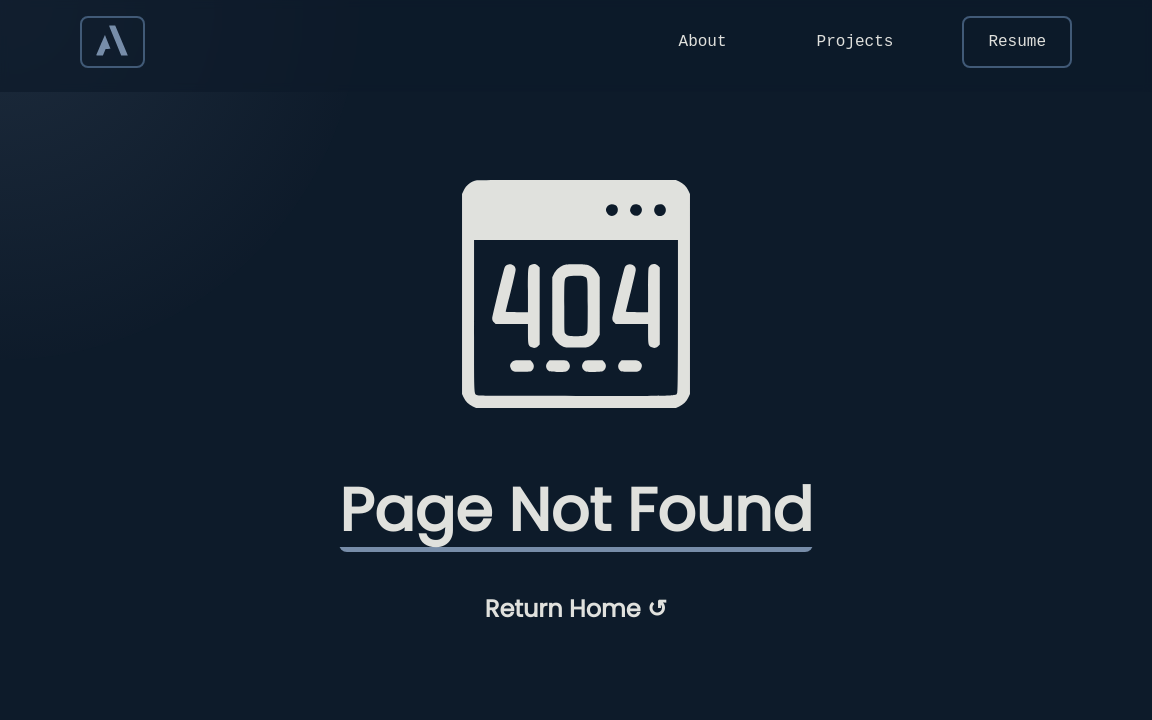
Test: Check that not found page is working as intended › check if button returns to home
This screenshot has width=1152, height=720.
Click the link with id "returnhomebutton": click(576, 609) [485,592,667,625]
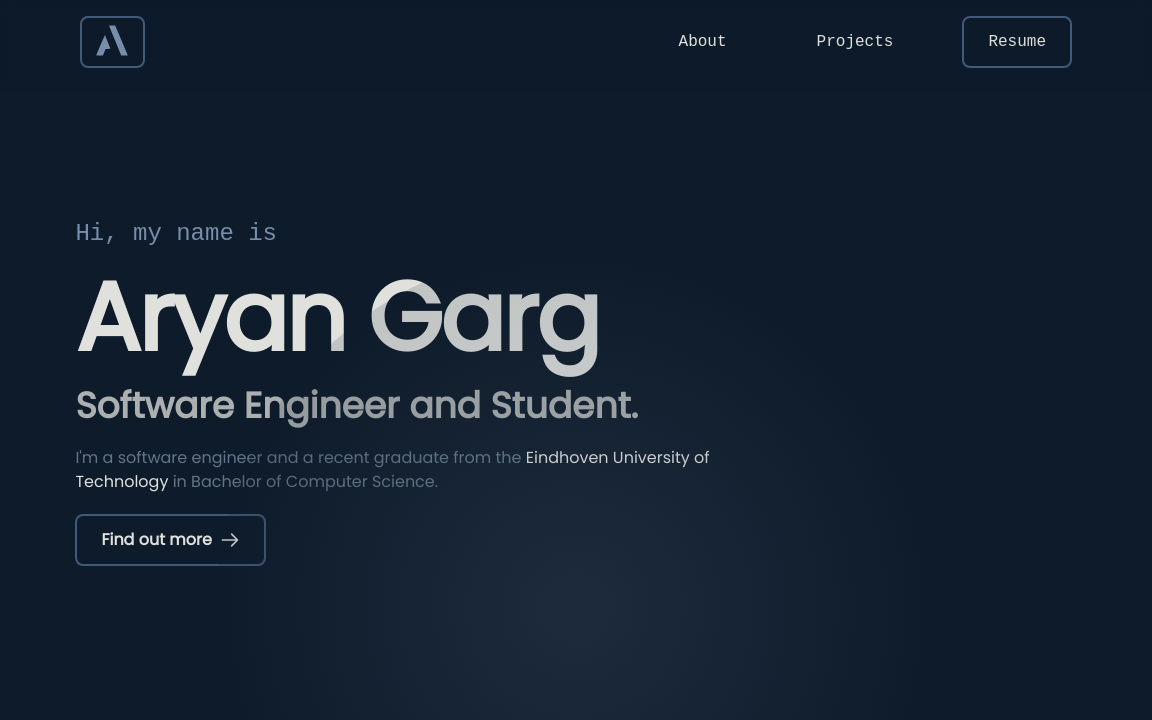
Expected: the element with id "landing" is shown, [75,220,709,566]
